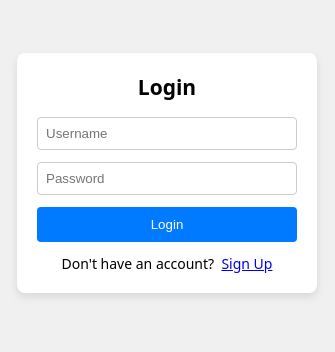
it: User Authentication › should display error when username is empty
The width and height of the screenshot is (335, 352).
In the password field with test id "password": [167, 179] box top-left (37, 162), bottom-right (297, 195), type "Test@123"
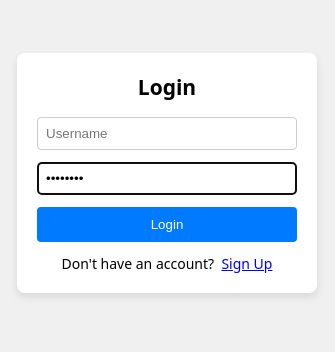
Click the button with test id "login-button": [167, 225] box top-left (37, 207), bottom-right (297, 242)
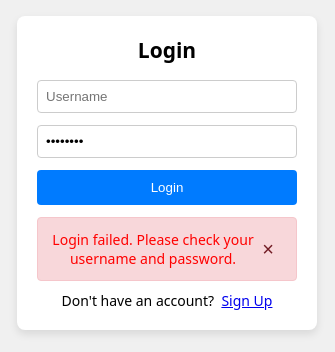
Now the text with test id "error-message" reads "Login failed. Please check your username and password.", box top-left (52, 230), bottom-right (253, 268)
